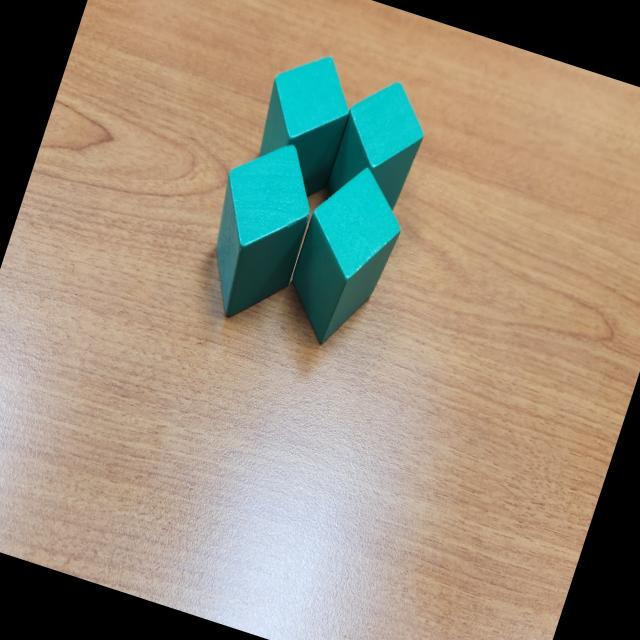green: (186, 130, 330, 334), (274, 155, 416, 357), (242, 42, 364, 205), (320, 71, 438, 226)
